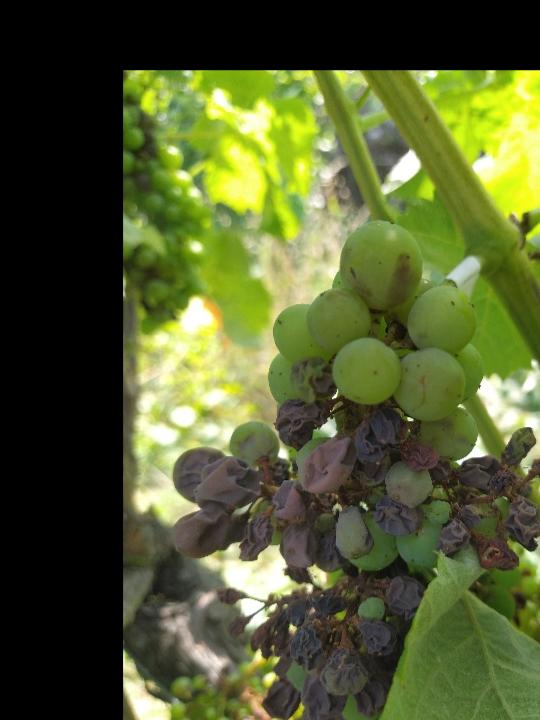grape: (167, 215, 540, 720)
